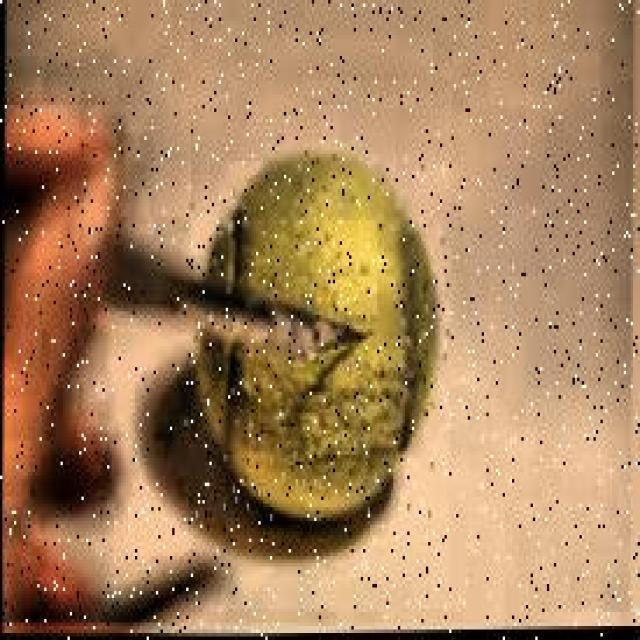tennis-ball: (179, 147, 452, 528)
